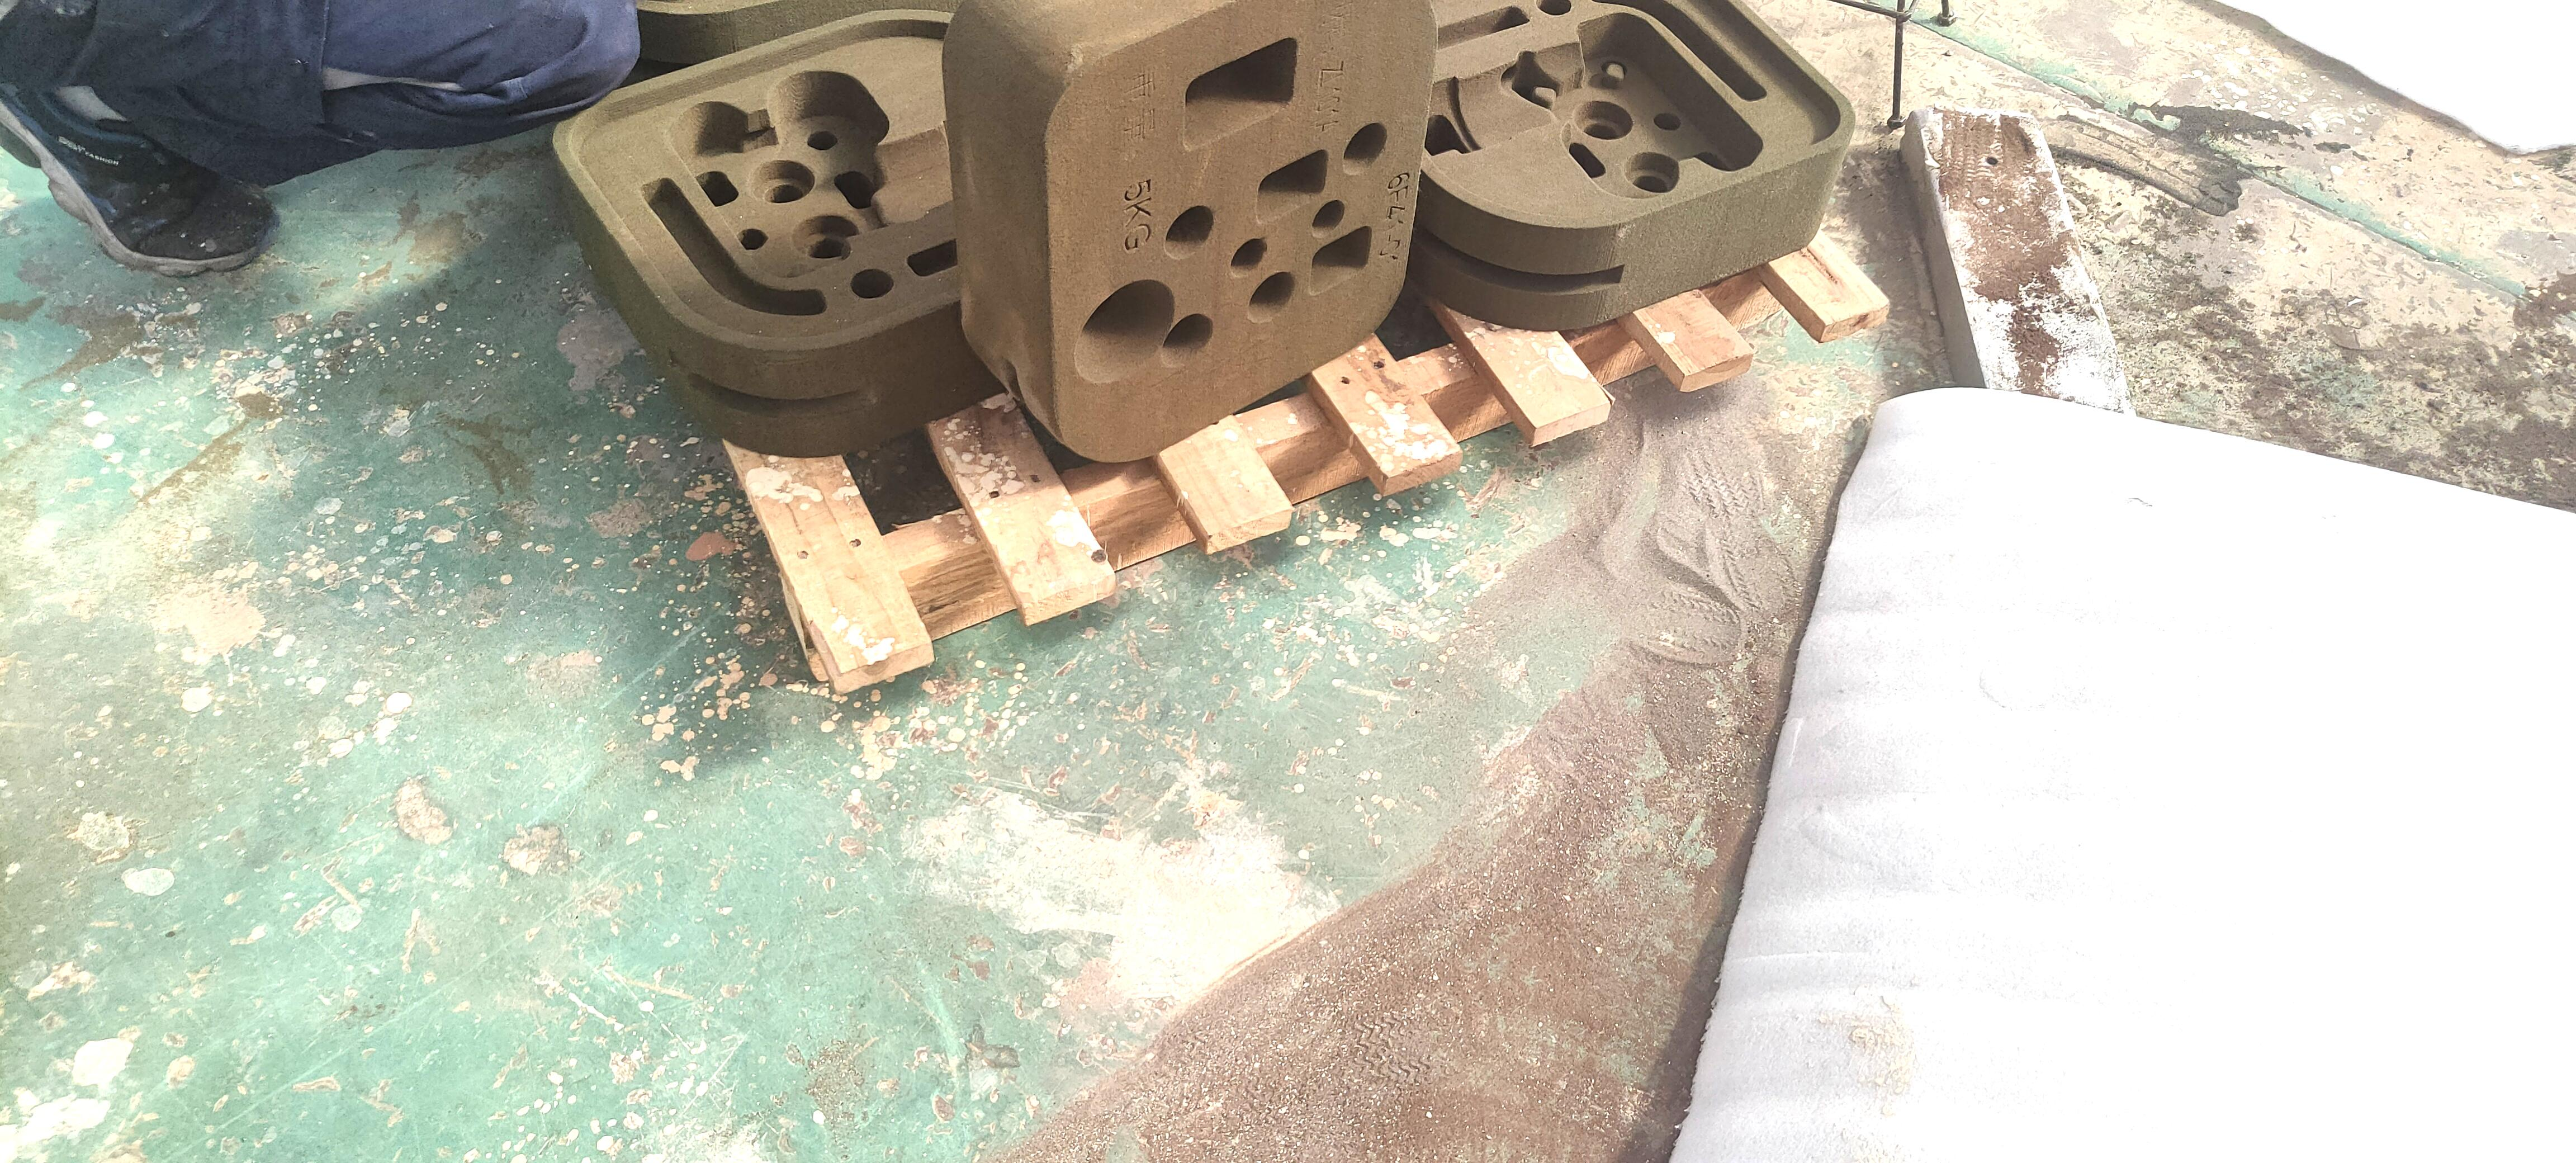pouring hole: (1074, 279, 1175, 384)
